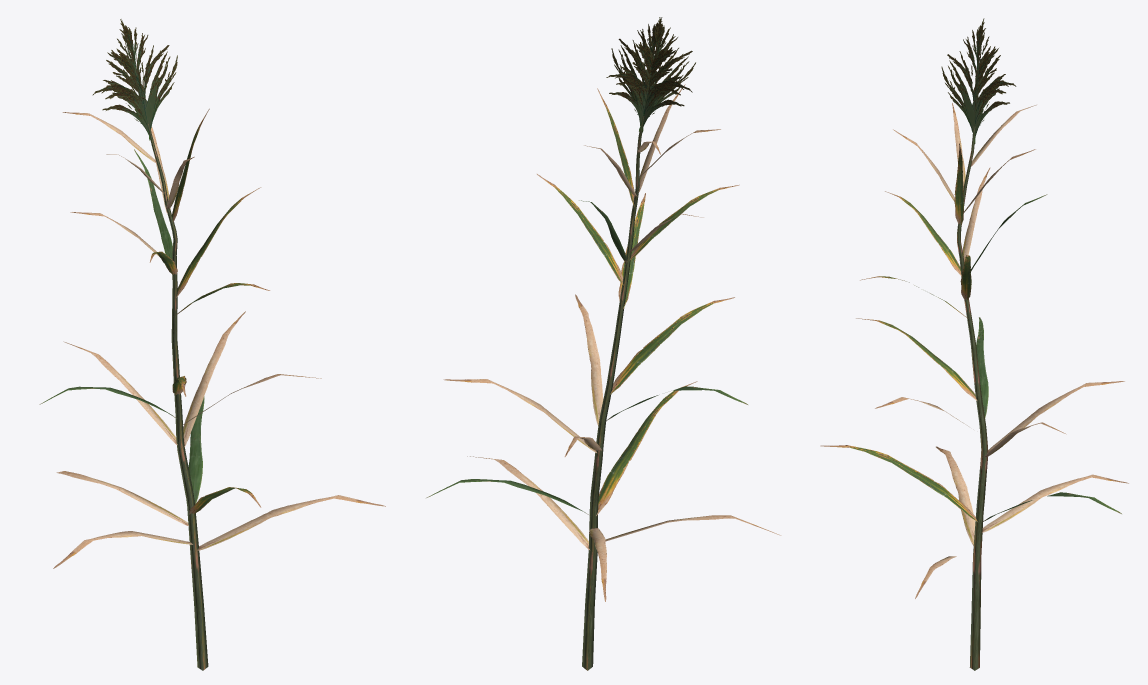
The model's file is valley-reed-3.glb.
3 renders of one model, left to right at view 1: azimuth 30°, elevation 25°; view 2: azimuth 150°, elevation 25°; view 3: azimuth 270°, elevation 25°, orthographic. The views are drawn at different scales.
Visible parts, largest first — view 1: valley-reed-3; view 2: valley-reed-3; view 3: valley-reed-3.
Part boxes in pixels (box(x1,y1,x2,y2)): valley-reed-3: box(39, 19, 385, 670); valley-reed-3: box(426, 17, 781, 670); valley-reed-3: box(820, 18, 1128, 670).
Bounding box in the file's own units: 0.9313 × 1.8 × 0.8357.
Materials: 2 (2 with a texture image).
